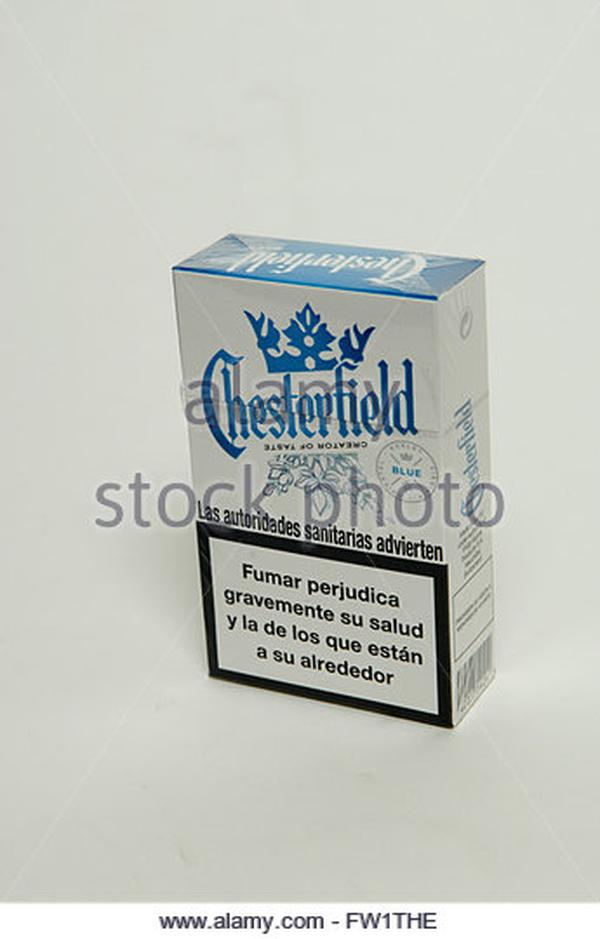chesterfield_blue: (193, 276, 450, 689)
